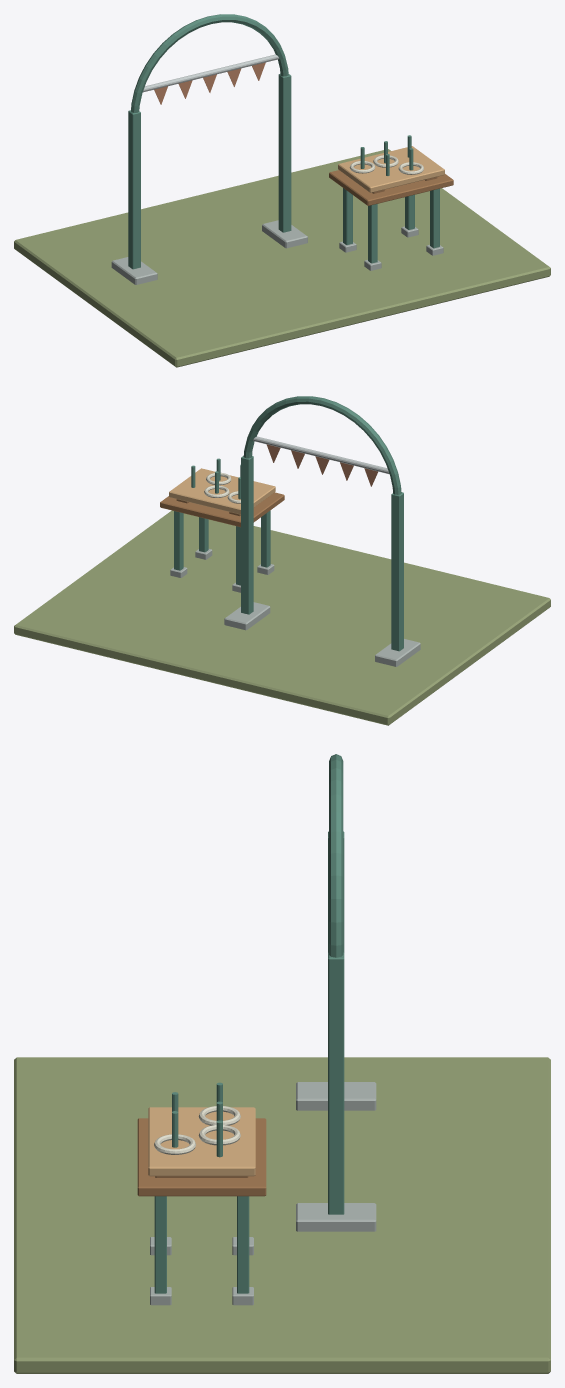
3 views of the same model, one above another, from view 1: azimuth 30°, elevation 25°; view 2: azimuth 150°, elevation 25°; view 3: azimuth 270°, elevation 25° (orthographic). The views are drawn at different scales.
Visible parts, largest first — view 1: carnival-fair-corner-01; view 2: carnival-fair-corner-01; view 3: carnival-fair-corner-01.
Part boxes in pixels (<box>): carnival-fair-corner-01: <box>14,14,550,367</box>; carnival-fair-corner-01: <box>14,396,550,725</box>; carnival-fair-corner-01: <box>14,754,550,1373</box>.
Size of the model in its own units: 4 by 2.53 by 3.
